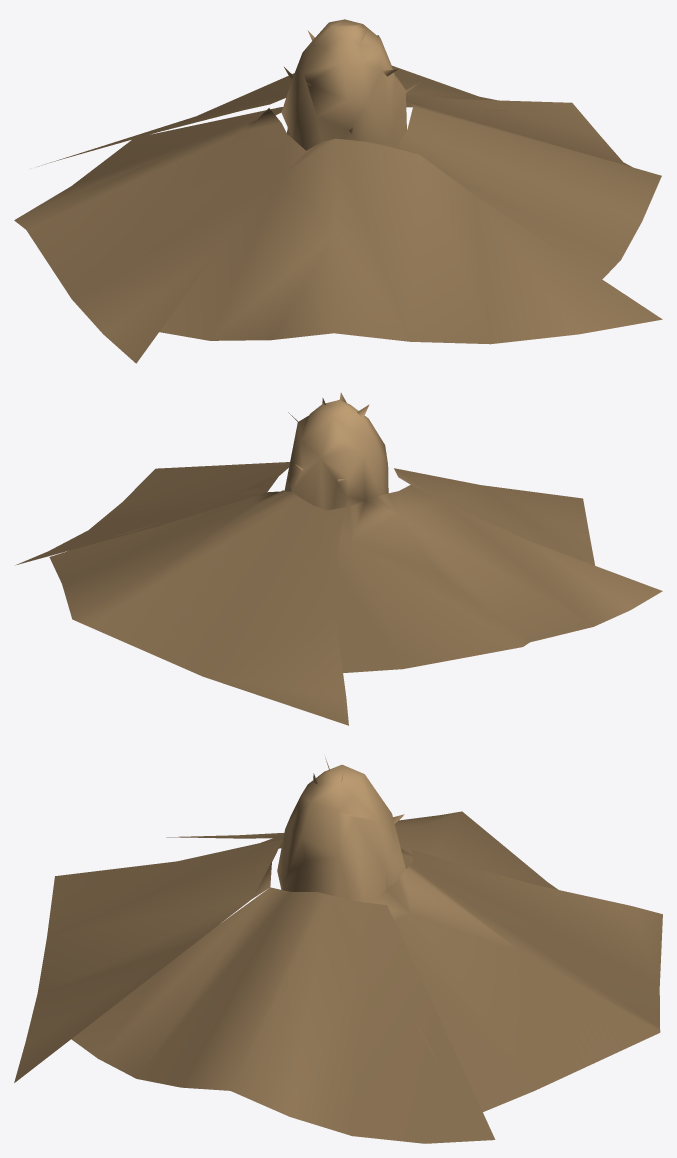
Rendered from carpa_a_lejos.glb.
3 renders of one model, top to bottom at view 1: azimuth 30°, elevation 25°; view 2: azimuth 150°, elevation 25°; view 3: azimuth 270°, elevation 25°, orthographic. The views are drawn at different scales.
Visible parts, largest first — view 1: carpa_a_lejos; view 2: carpa_a_lejos; view 3: carpa_a_lejos.
Part boxes in pixels (bbox=[...]): carpa_a_lejos: bbox=[14, 19, 662, 363]; carpa_a_lejos: bbox=[15, 393, 662, 725]; carpa_a_lejos: bbox=[14, 757, 662, 1143].
Bounding box in the file's own units: 10.08 × 3.94 × 9.12.
